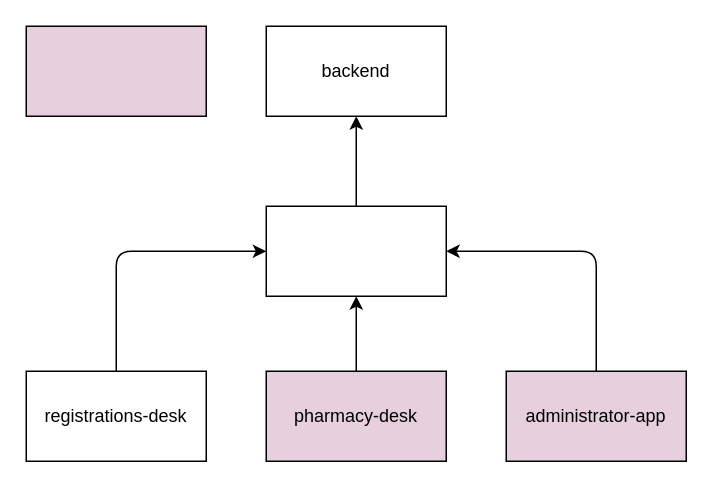
Some shapes in this 713 by 488 pixel diagram are drawn without their labels. The shapes that lost their labels are listed below. From the top down, each one's box as (x1, y1, x2, y2) in pixels, then its label:
(25, 25, 206, 116): authorization-server
(265, 205, 446, 296): ksch-dart-client
